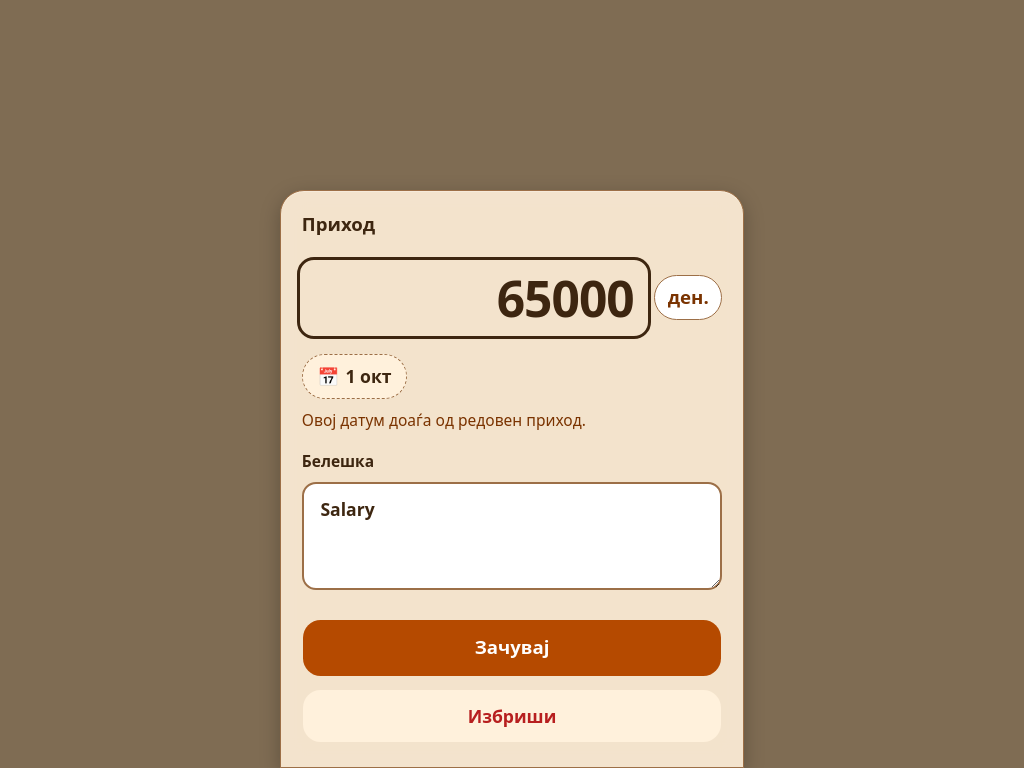
it: PersonalIncomeSheet, editing an entry made by a repeating income › what still works › marks the date chip and shows the translated message when the server refuses a moved date (mk)
Click the button "Зачувај".
click(512, 648)  # box [302,619,722,677]
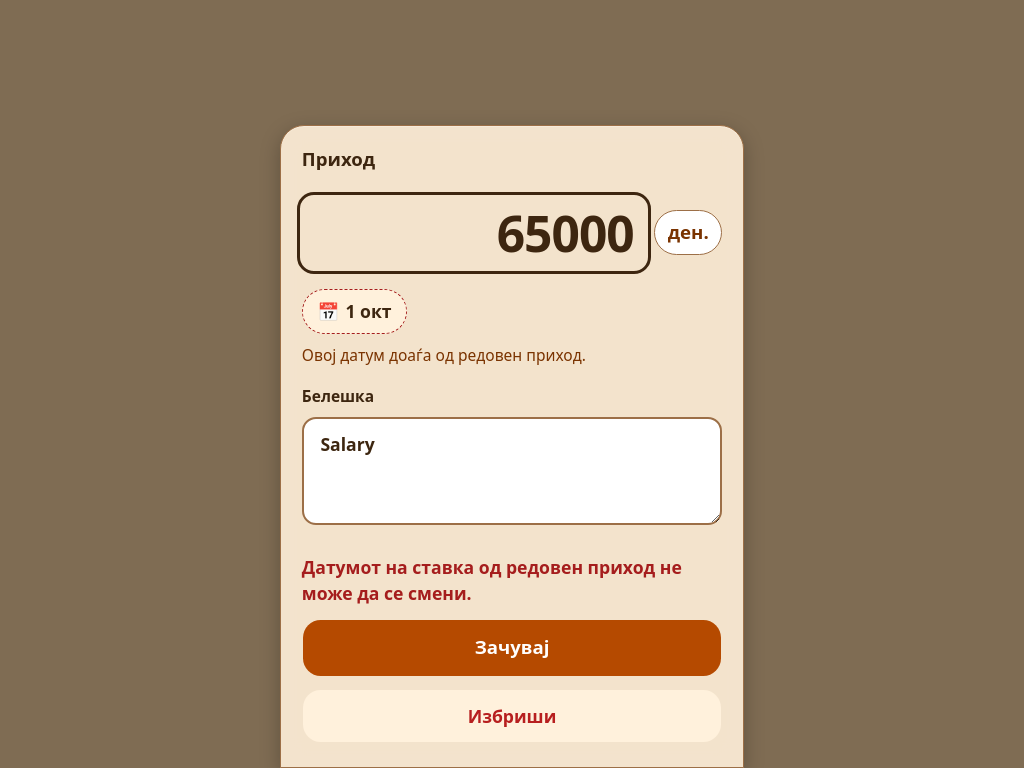
Check: the message reads "Датумот на ставка од редовен приход не може да се смени.", box [302,555,682,605]
